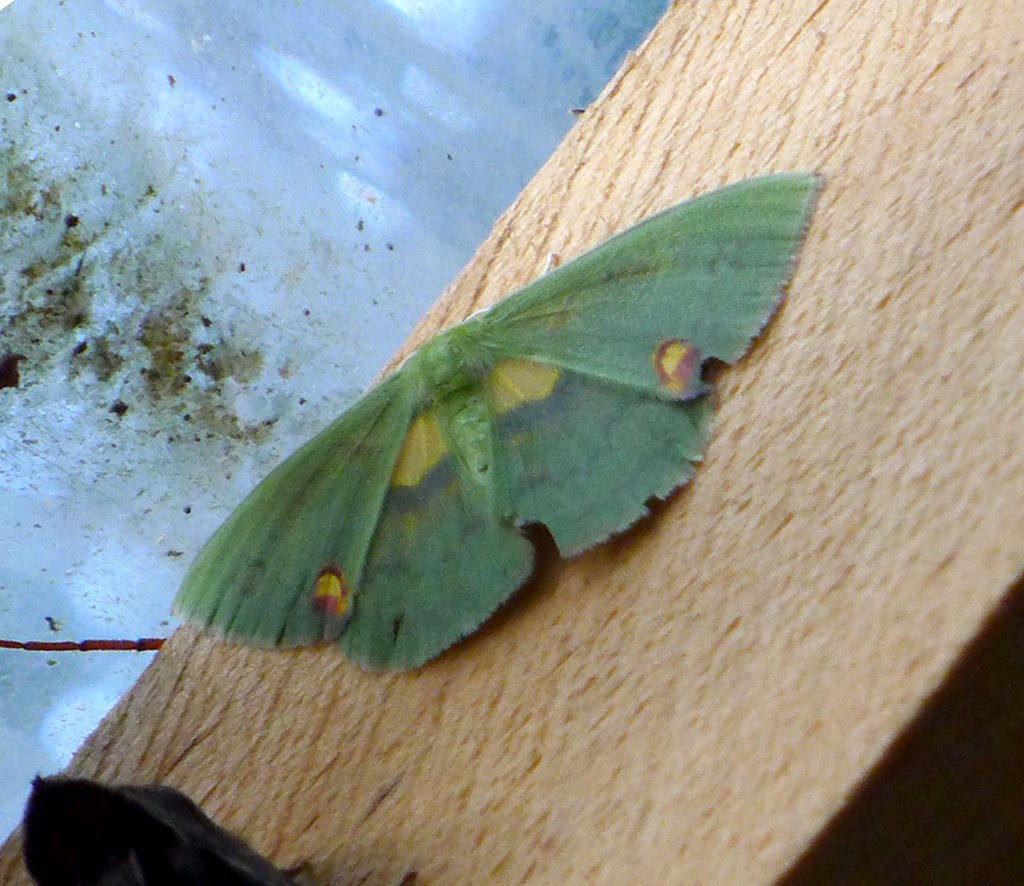Butterfly: (153, 149, 830, 663)
